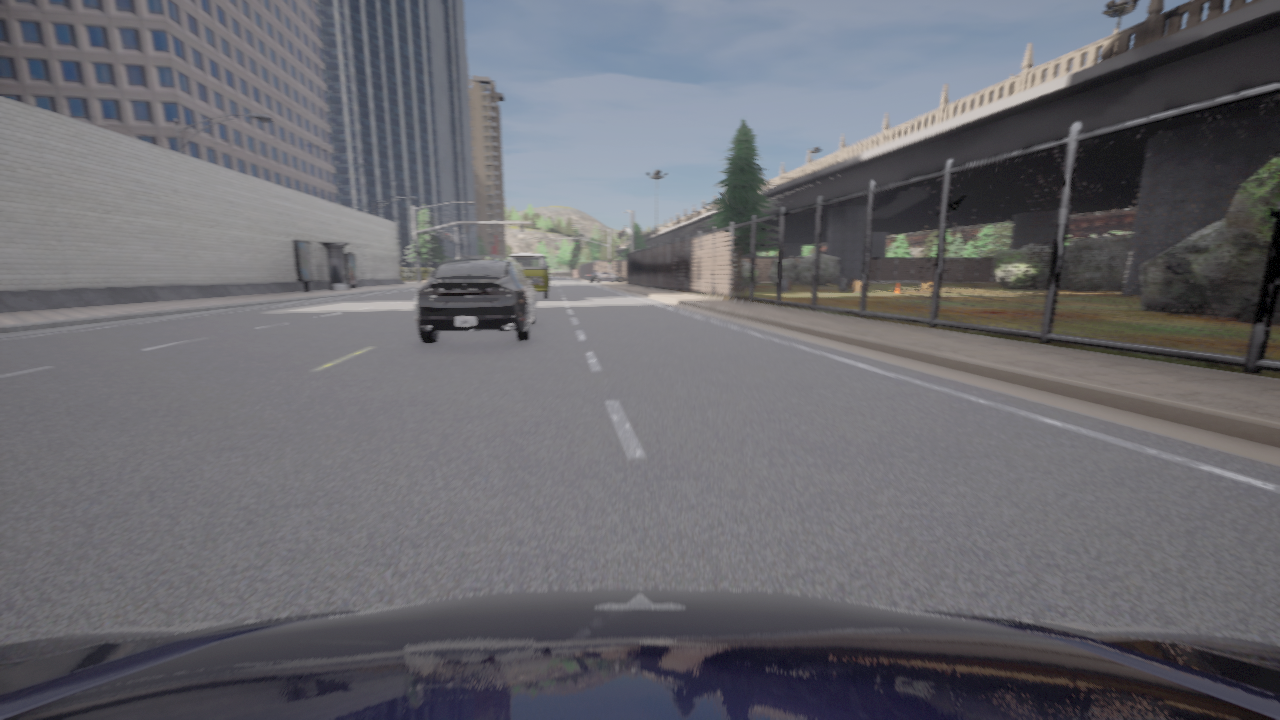cyclist: (0, 588, 1279, 719), (415, 257, 541, 342), (508, 253, 549, 298), (584, 270, 624, 283)
